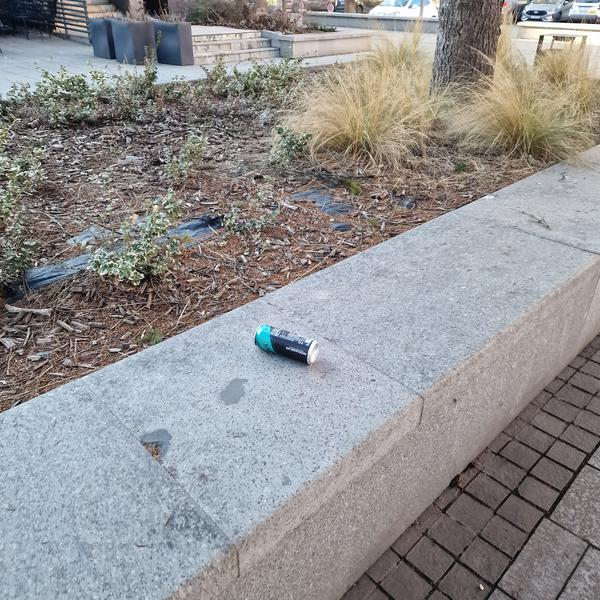can: (252, 322, 322, 366)
